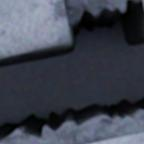brick: (0, 0, 68, 57), (91, 133, 143, 143)
crack: (0, 0, 143, 143)
